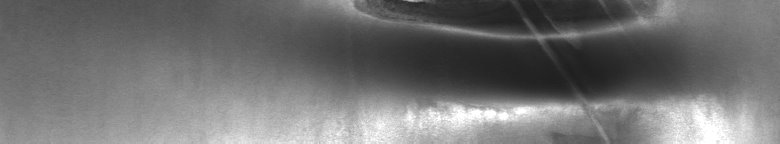ke: (352, 4, 649, 133)
